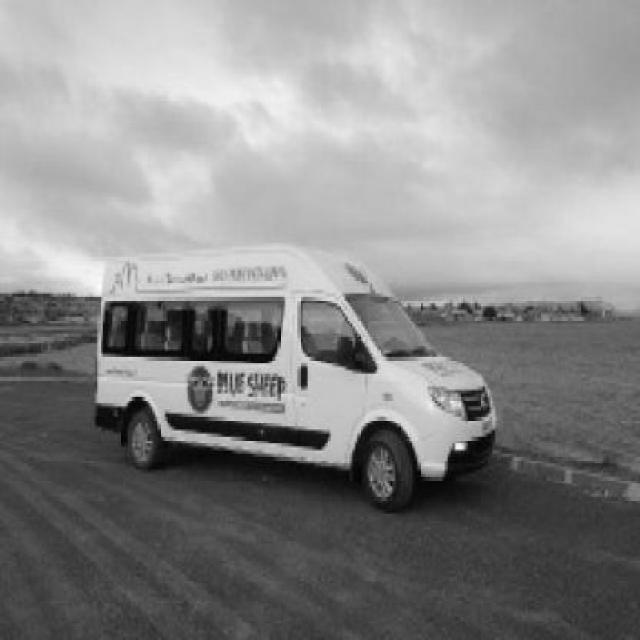Van: (94, 244, 499, 514)
